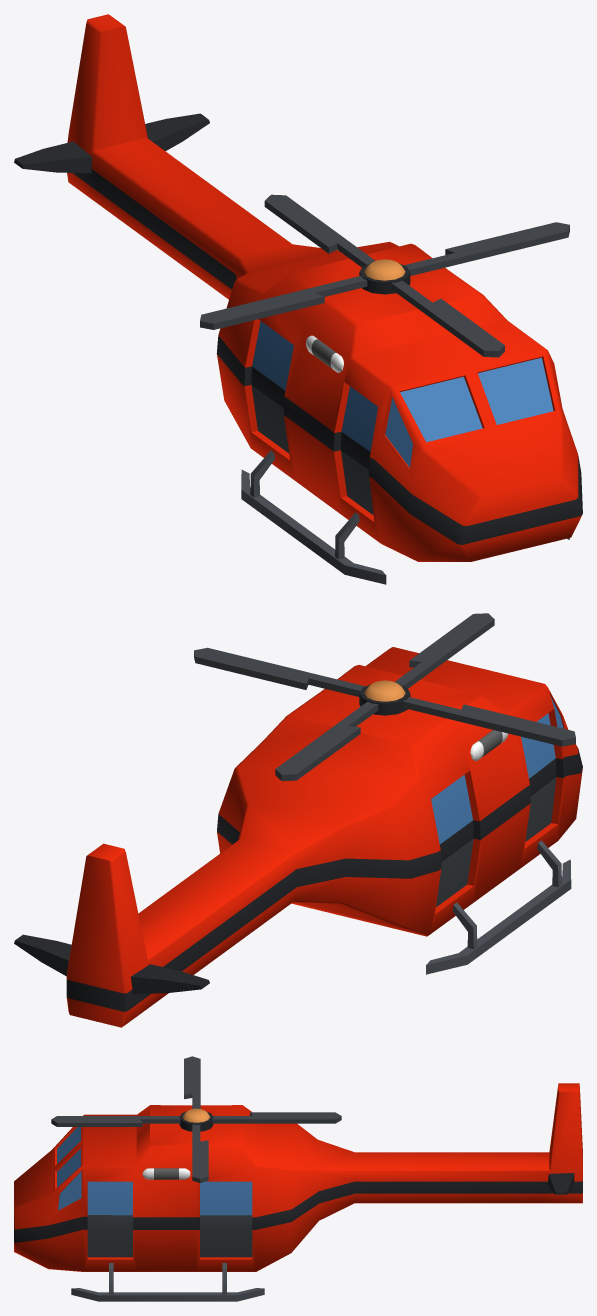
The model's file is Helicopter_1.fbx.
3 views of the same model, one above another, from view 1: azimuth 30°, elevation 25°; view 2: azimuth 150°, elevation 25°; view 3: azimuth 270°, elevation 25° (orthographic). The views are drawn at different scales.
Parts seen in each view (by area): view 1: Helicopter_1; view 2: Helicopter_1; view 3: Helicopter_1.
Boxes of the visible parts, box(x1,y1,x2,y2) form: Helicopter_1: box(14, 14, 582, 584); Helicopter_1: box(14, 613, 582, 1027); Helicopter_1: box(14, 1056, 582, 1301).
Bounding box in the file's own units: 490 × 332 × 960.
